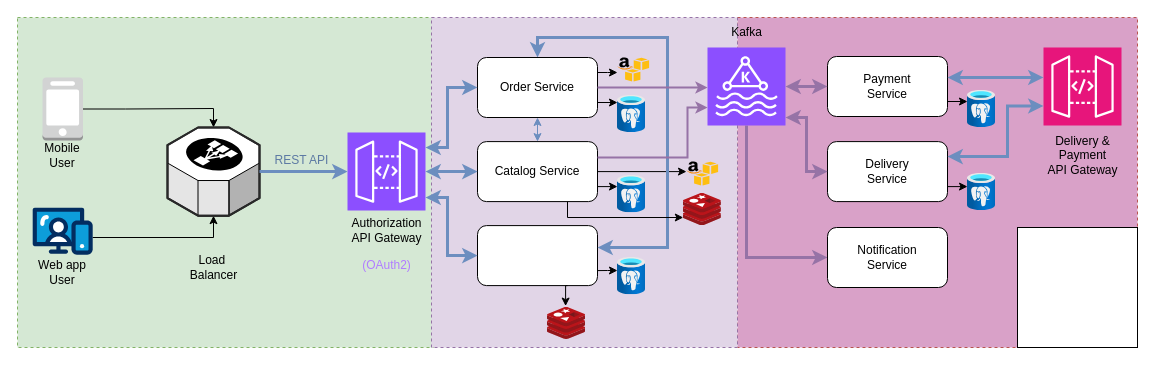
The diagram is 1155 pixels wide and 365 high, and some of its shapes have lost their labels. The shapes that lost their labels are listed below. From the top down, each one's box as (x1, y1, x2, y2) in pixels, then its label:
(476, 225, 598, 286): User Service
(1016, 226, 1138, 348): Trace: Jaeger, OpenTracing Log: Kibana Metrcis: Prometheus IAM: Amanzon AWS
